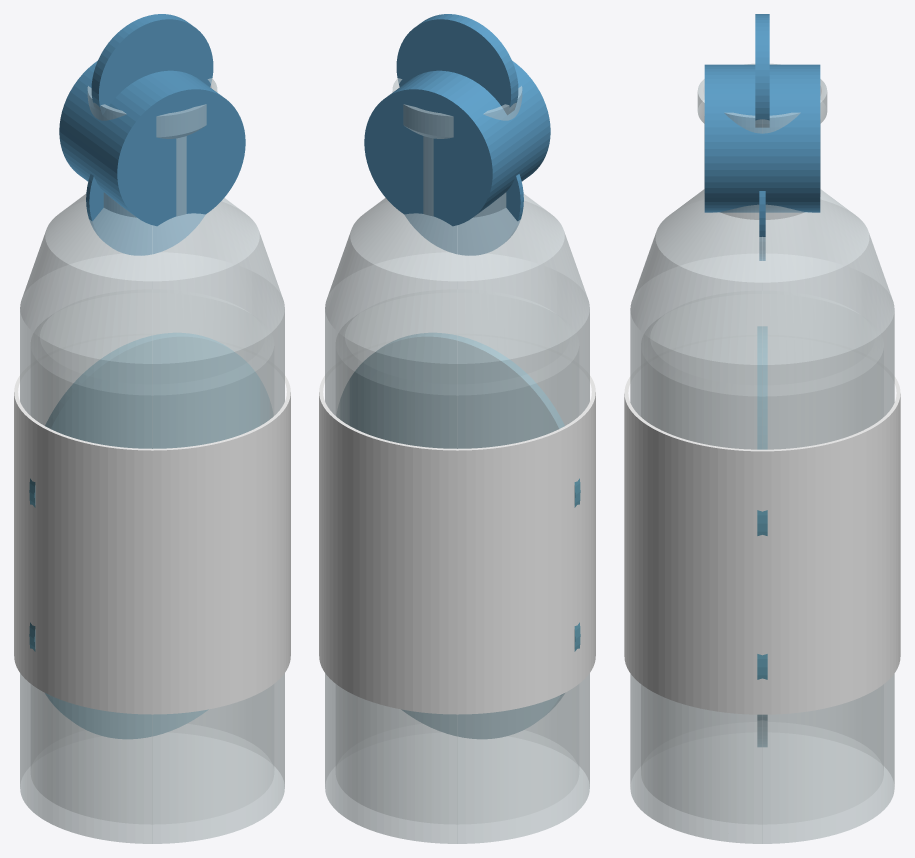
File: botella_particula.glb
3 views of the same model, side by side, from view 1: azimuth 30°, elevation 25°; view 2: azimuth 150°, elevation 25°; view 3: azimuth 270°, elevation 25° (orthographic).
Parts seen in each view (by area): view 1: particula_3, particula_0, particula_1, particula_2; view 2: particula_3, particula_0, particula_1, particula_2; view 3: particula_0, particula_3, particula_1, particula_2.
Part boxes in pixels (x1=…): particula_3: x1=14, y1=333, x2=290, y2=738; particula_0: x1=20, y1=78, x2=284, y2=843; particula_1: x1=31, y1=289, x2=273, y2=824; particula_2: x1=59, y1=14, x2=245, y2=255; particula_3: x1=319, y1=333, x2=595, y2=738; particula_0: x1=325, y1=78, x2=589, y2=843; particula_1: x1=336, y1=289, x2=578, y2=824; particula_2: x1=364, y1=14, x2=550, y2=255; particula_0: x1=630, y1=63, x2=894, y2=843; particula_3: x1=624, y1=326, x2=900, y2=746; particula_1: x1=641, y1=291, x2=883, y2=824; particula_2: x1=704, y1=14, x2=820, y2=260.
Bounding box in the file's own units: 4.2 × 12.83 × 4.18.
5 materials, 1 textured.
